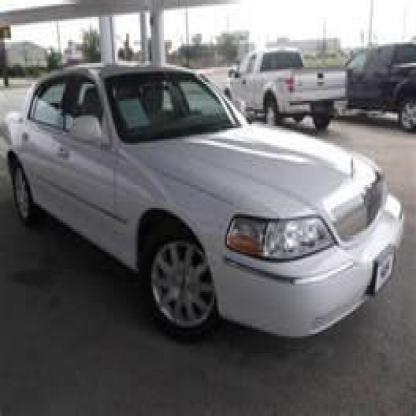Vehicle: (6, 63, 410, 332)
